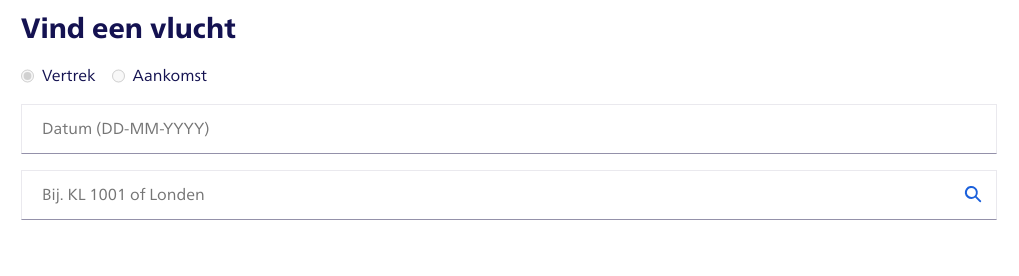
FindAFlight › shows error message for invalid date
Type "31-02-2023" into the field labelled "Datum" at (509, 129), box [21, 104, 997, 154]
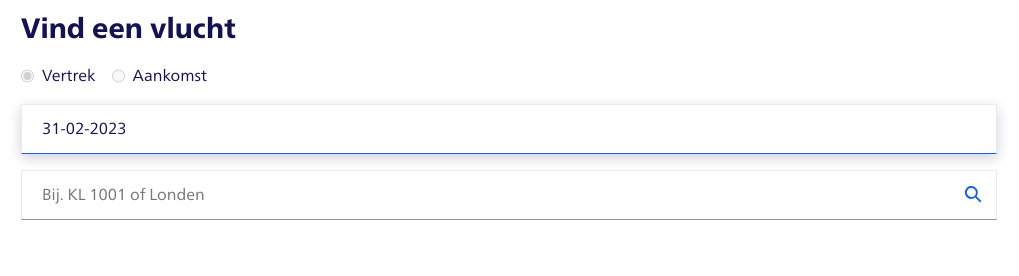
Expected: the text "Voer een geldige datum in" is not shown
Click the button named "Zoeken" at (973, 195), box [949, 170, 997, 220]
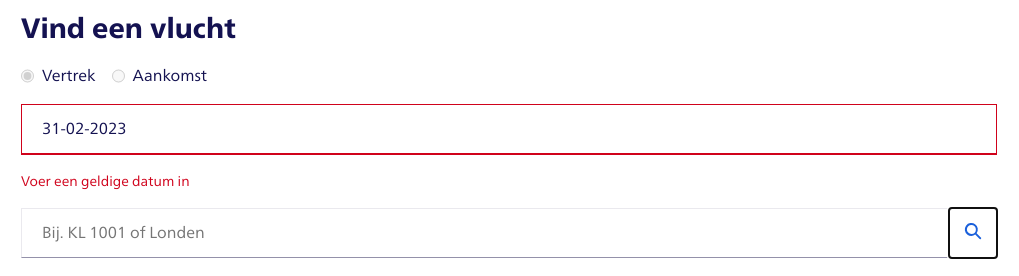
Expected: the text "Voer een geldige datum in" is shown, [21, 173, 190, 189]
Type "28-02-2023" into the field named "Datum" at (509, 130), box [21, 104, 997, 155]
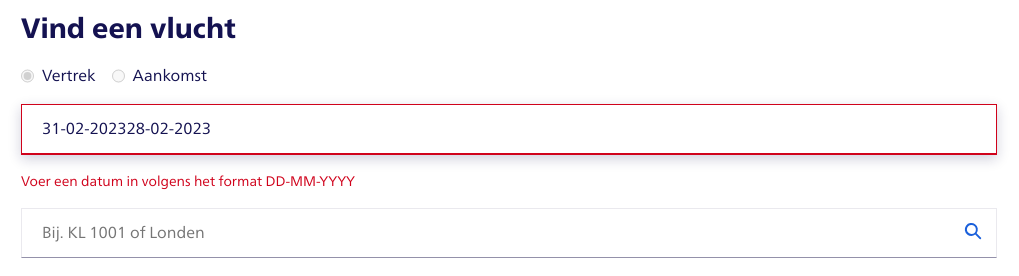
Expected: the text "Voer een geldige datum in" is gone
